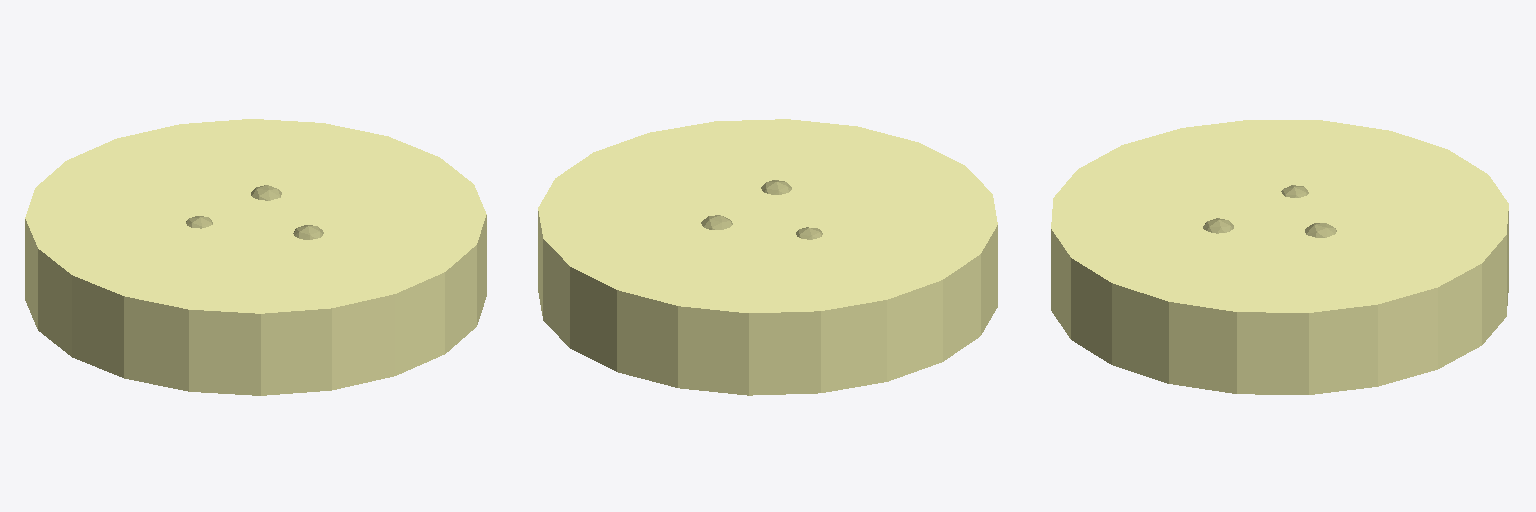
File: BananaSlice.obj
3 renders of one model, left to right at view 1: azimuth 30°, elevation 25°; view 2: azimuth 150°, elevation 25°; view 3: azimuth 270°, elevation 25°, orthographic.
Visible parts, largest first — view 1: RGBA(1.000, 0.984, 0.498, 1.000):ShapeMaterial (Instance), position; view 2: RGBA(1.000, 0.984, 0.498, 1.000):ShapeMaterial (Instance), position; view 3: RGBA(1.000, 0.984, 0.498, 1.000):ShapeMaterial (Instance), position.
Part boxes in pixels (bbox=[...]): RGBA(1.000, 0.984, 0.498, 1.000):ShapeMaterial (Instance): bbox=[25, 119, 486, 395]; position: bbox=[186, 185, 323, 239]; RGBA(1.000, 0.984, 0.498, 1.000):ShapeMaterial (Instance): bbox=[538, 119, 997, 395]; position: bbox=[701, 180, 822, 239]; RGBA(1.000, 0.984, 0.498, 1.000):ShapeMaterial (Instance): bbox=[1051, 120, 1508, 394]; position: bbox=[1203, 185, 1336, 237].
Bounding box in the file's own units: 12.56 × 2.84 × 12.56.